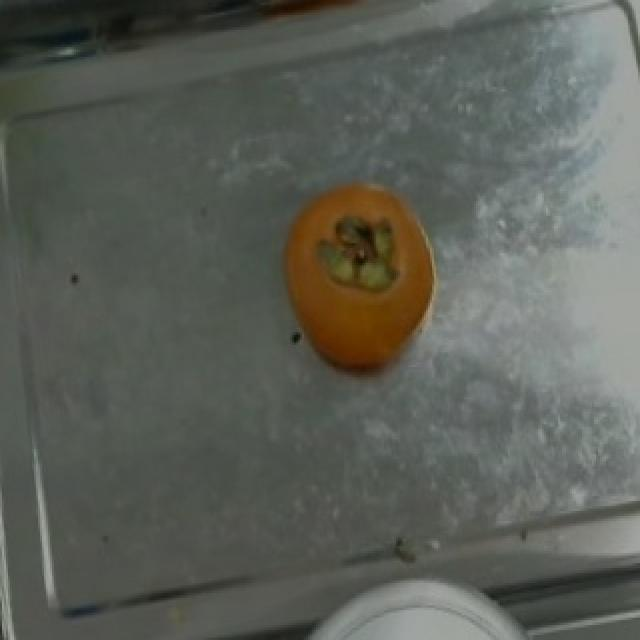Fruit: (262, 156, 460, 390)
